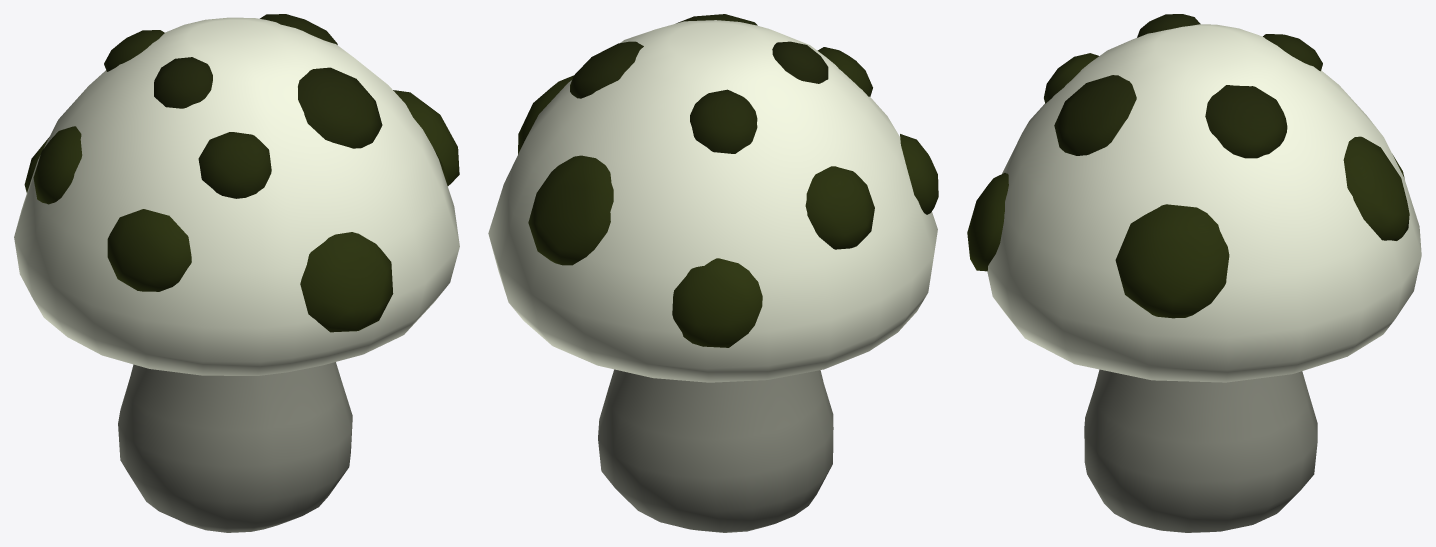
The model's file is Mushroom_0001_0017.fbx.
The picture shows the model from 3 angles, left to right: view 1: azimuth 30°, elevation 25°; view 2: azimuth 150°, elevation 25°; view 3: azimuth 270°, elevation 25°; orthographic projection.
Parts seen in each view (by area): view 1: Mushroom_0001_0017; view 2: Mushroom_0001_0017; view 3: Mushroom_0001_0017.
Boxes of the visible parts, x1=… form: Mushroom_0001_0017: x1=14, y1=14, x2=459, y2=532; Mushroom_0001_0017: x1=488, y1=14, x2=938, y2=532; Mushroom_0001_0017: x1=967, y1=14, x2=1421, y2=532.
Size of the model in its own units: 0.2682 by 0.3013 by 0.2698.
Materials: 1 (1 with a texture image).
